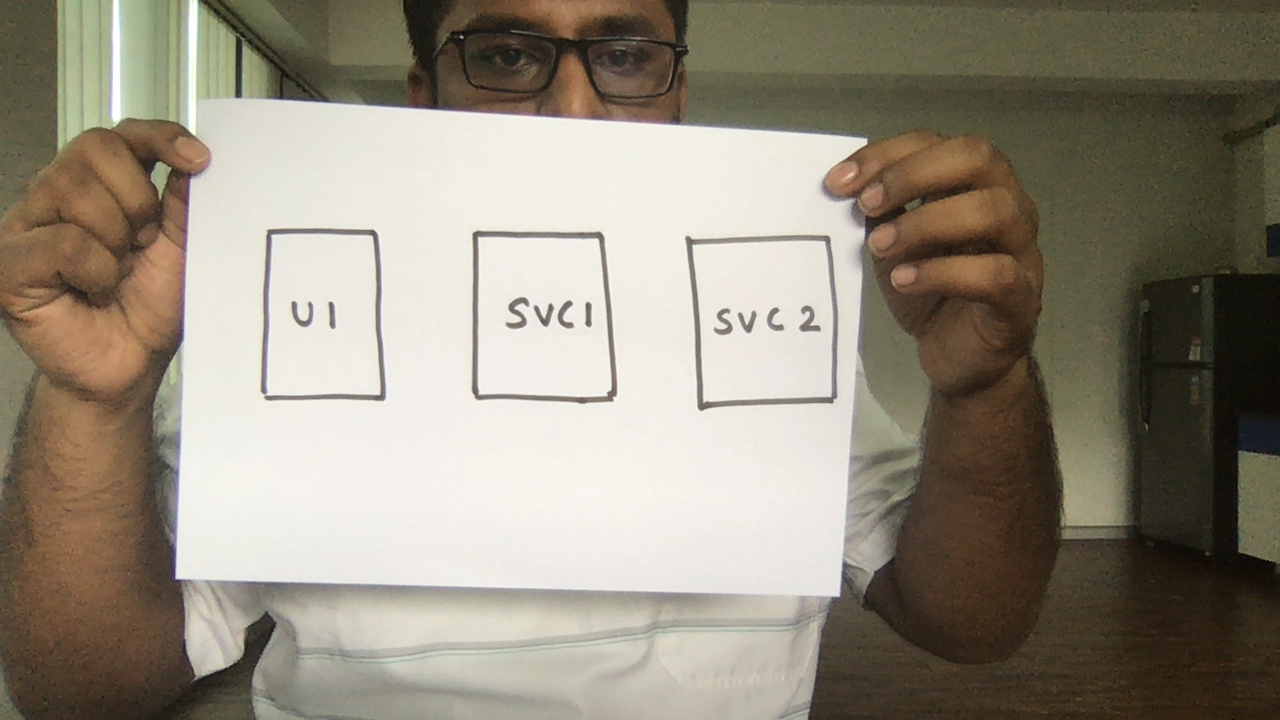ec2: (678, 229, 847, 412), (463, 223, 624, 414)
ui: (254, 222, 399, 414)
